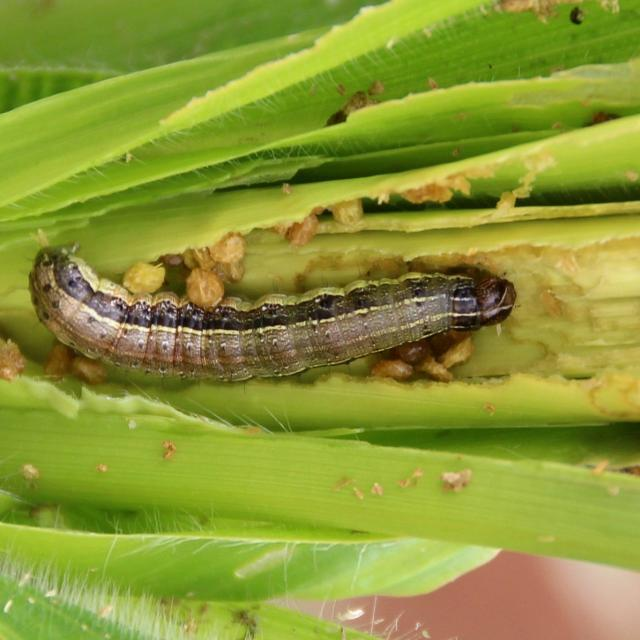army worm: (24, 217, 561, 405)
